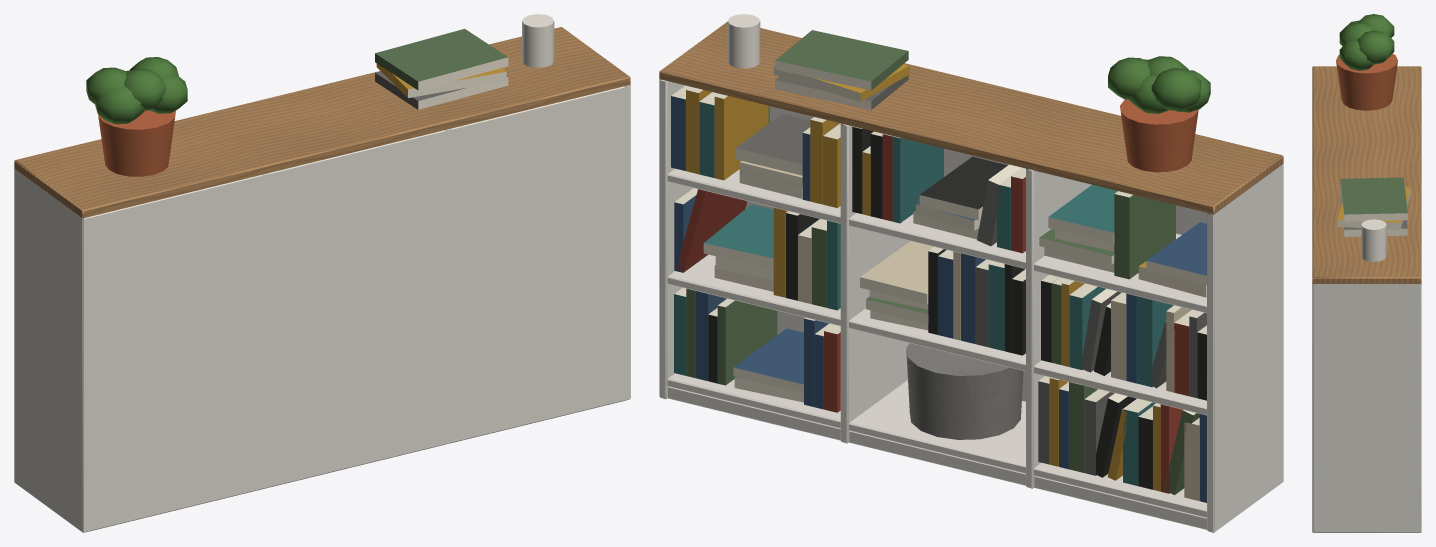
Rendered from bookcase.glb.
3 renders of one model, left to right at view 1: azimuth 30°, elevation 25°; view 2: azimuth 150°, elevation 25°; view 3: azimuth 270°, elevation 25°, orthographic. The views are drawn at different scales.
Visible parts, largest first — view 1: bookcase; view 2: bookcase; view 3: bookcase.
Part boxes in pixels (x1=…): bookcase: x1=14, y1=14, x2=630, y2=532; bookcase: x1=659, y1=14, x2=1283, y2=532; bookcase: x1=1312, y1=14, x2=1421, y2=532.
Size of the model in its own units: 7.1 by 5.17 by 1.55.
Materials: 15 (2 with a texture image).
